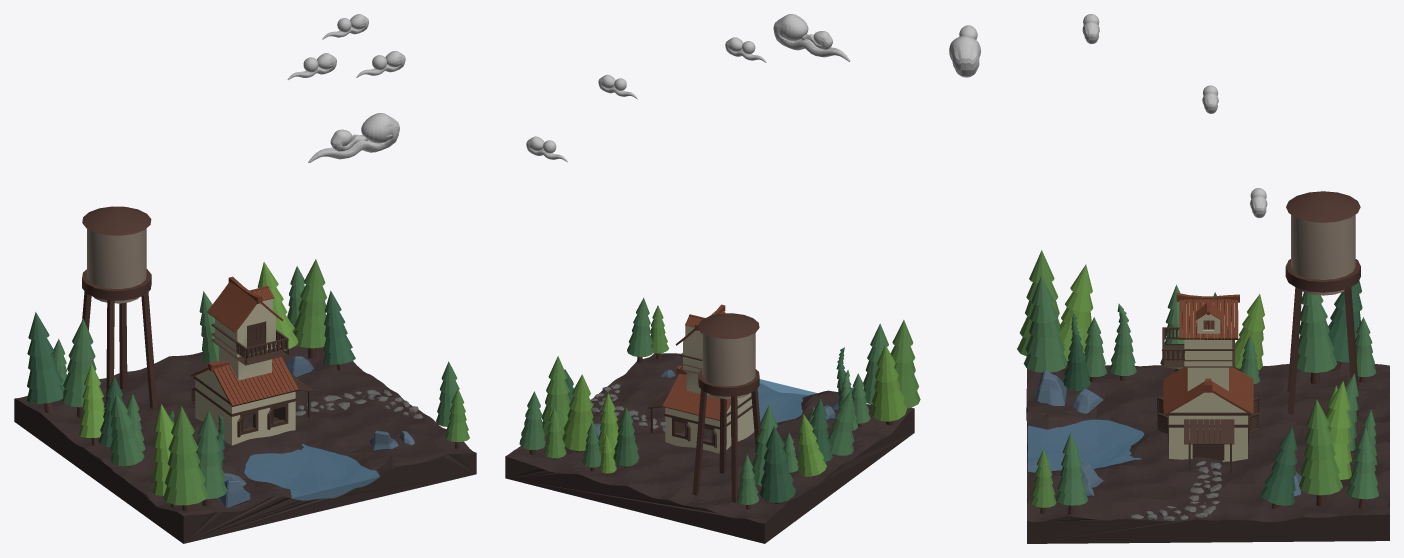
The picture shows the model from 3 angles, left to right: view 1: azimuth 30°, elevation 25°; view 2: azimuth 150°, elevation 25°; view 3: azimuth 270°, elevation 25°; orthographic projection. The views are drawn at different scales.
Parts seen in each view (by area): view 1: Cabin, trees.001, trees.005, cabin 2nd floor, water tank _1, water, trees.004, trees.003, water tank _0, Cloud big, trees, stones (+4 smaller); view 2: Cabin, trees.001, trees.005, water tank _1, trees.004, trees.003, water tank _0, Cloud big, trees, water, cabin 2nd floor, stones (+3 smaller); view 3: Cabin, trees.005, trees.001, cabin 2nd floor, trees.004, water tank _1, water, water tank _0, trees, trees.003, stones, Cloud big (+2 smaller).
Boxes of the visible parts, x1,y1,x2,y2 form: Cabin: [14, 332, 476, 543]; trees.001: [199, 259, 355, 371]; trees.005: [152, 404, 227, 511]; cabin 2nd floor: [207, 276, 288, 380]; water tank _1: [82, 206, 157, 408]; water: [244, 444, 379, 500]; trees.004: [26, 312, 99, 417]; trees.003: [78, 364, 145, 467]; water tank _0: [87, 228, 146, 303]; Cloud big: [308, 113, 399, 162]; trees: [436, 361, 469, 449]; stones: [295, 389, 423, 418]; Cabin: [505, 353, 914, 543]; trees.001: [519, 356, 639, 474]; trees.005: [836, 320, 920, 430]; water tank _1: [692, 313, 760, 502]; trees.004: [737, 405, 795, 509]; trees.003: [798, 391, 854, 477]; water tank _0: [702, 332, 755, 399]; Cloud big: [773, 14, 850, 61]; trees: [627, 297, 668, 363]; water: [757, 379, 817, 422]; cabin 2nd floor: [675, 304, 725, 397]; stones: [590, 384, 665, 431]; Cabin: [1026, 362, 1389, 543]; trees.005: [1017, 250, 1136, 391]; trees.001: [1260, 373, 1378, 509]; cabin 2nd floor: [1162, 293, 1239, 391]; trees.004: [1297, 280, 1376, 384]; water tank _1: [1285, 191, 1360, 416]; water: [1028, 419, 1144, 472]; water tank _0: [1291, 215, 1355, 295]; trees: [1030, 433, 1088, 514]; trees.003: [1160, 284, 1264, 371]; stones: [1131, 460, 1221, 520]; Cloud big: [949, 25, 980, 77].
Size of the model in its own units: 6.46 by 7.76 by 6.76.
